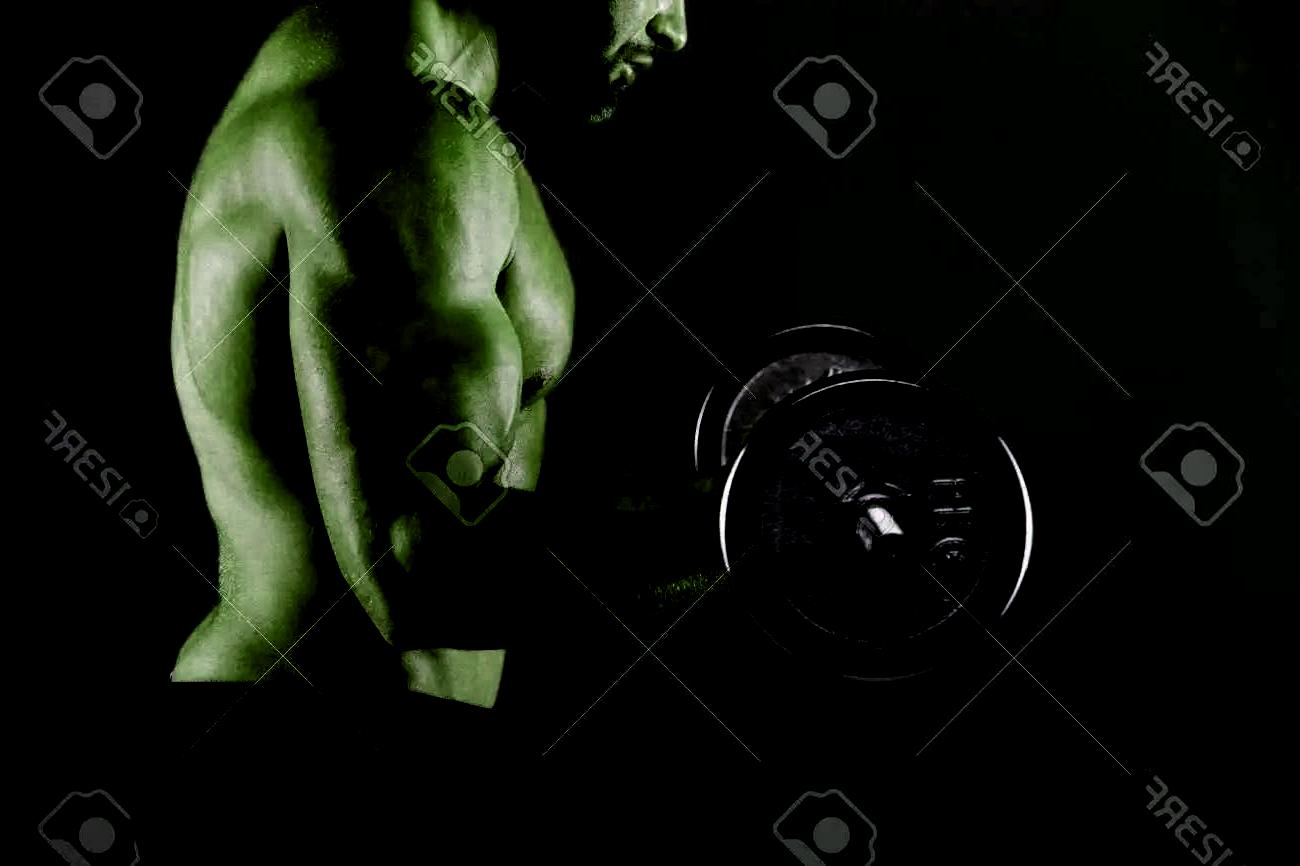Barbell: (862, 524, 916, 586)
